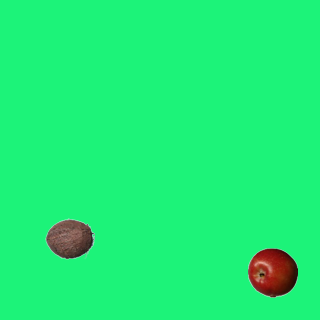Apple Braeburn: (247, 247, 297, 297)
Cocos: (44, 213, 94, 263)
